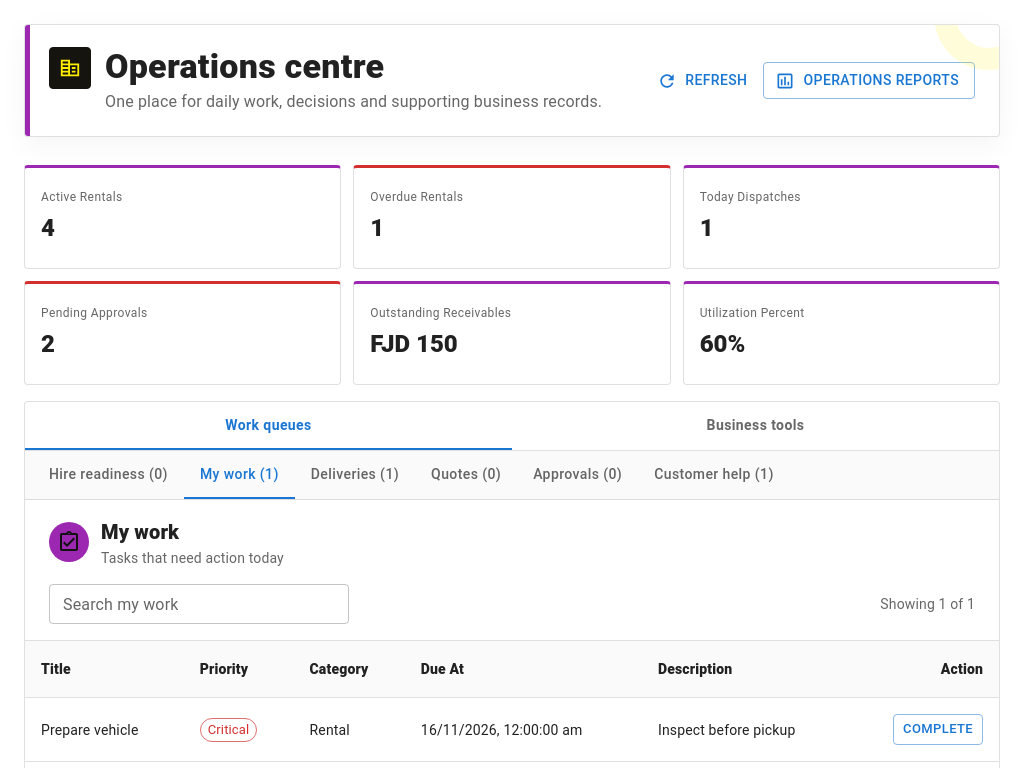
Test: requires a resolution note for a resolved case
Later steps or results of the test are not shown.
Check: the text "Prepare vehicle" is shown, box [25, 698, 184, 761]
Click the tab "Customer help (1)".
click(714, 475)  # box [638, 451, 790, 499]
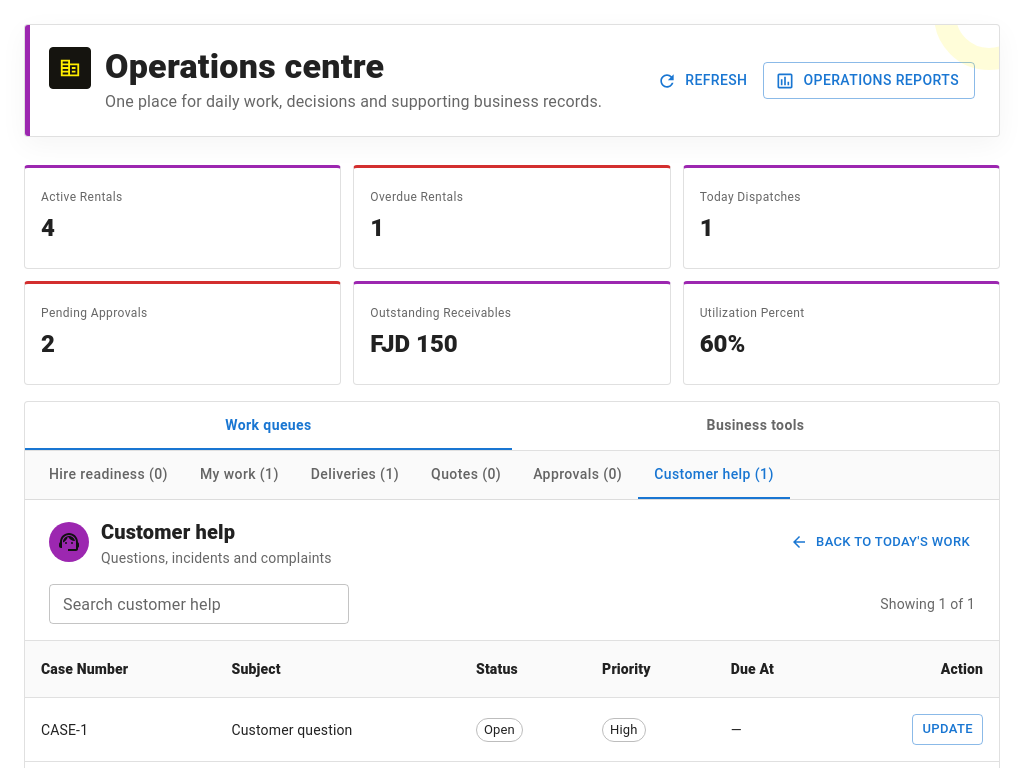
Click the button "Update".
click(948, 730)  # box [912, 714, 983, 745]
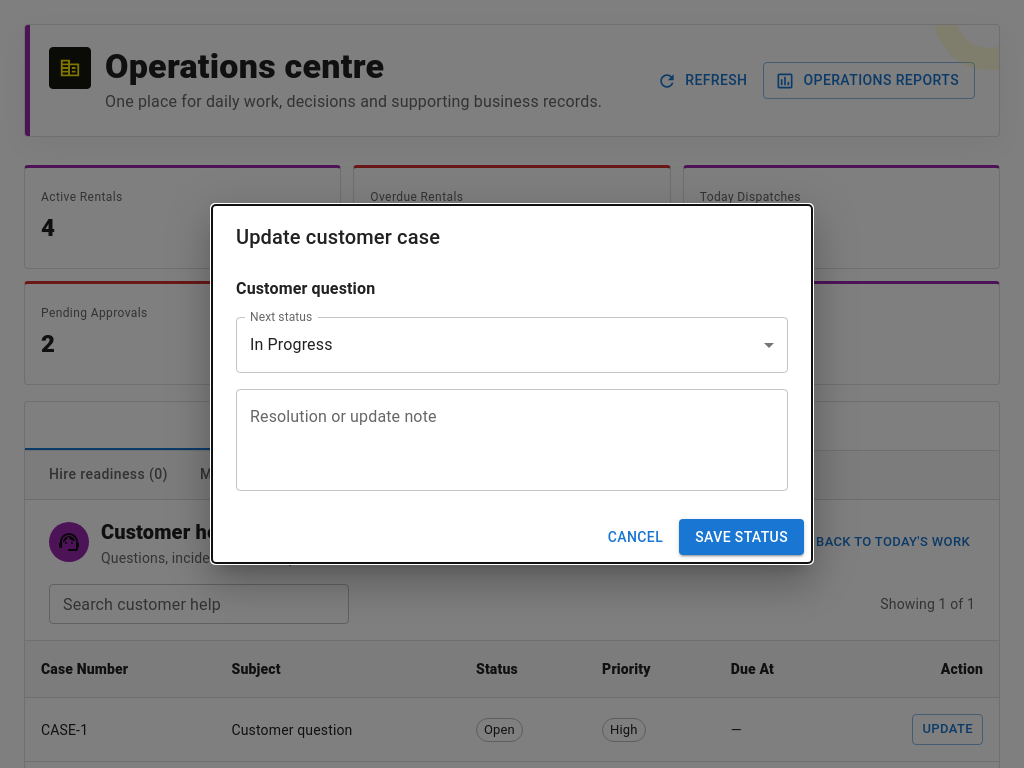
Press the mouse on the dropdown named "Next status" at (291, 345), box [250, 335, 333, 354]
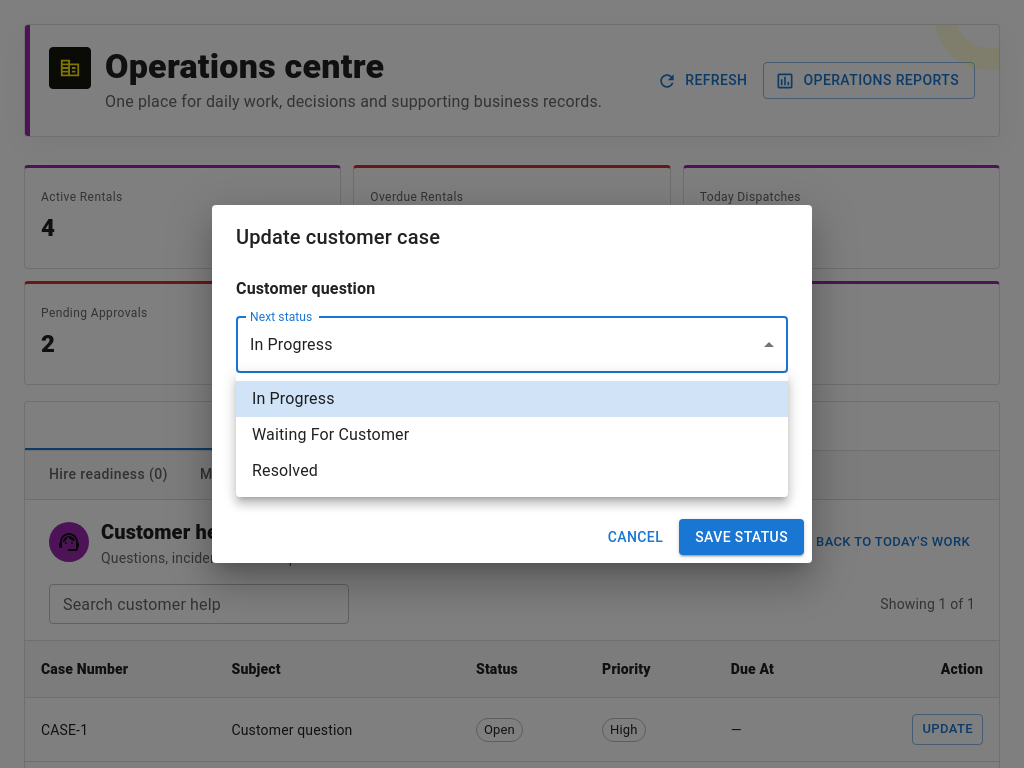
Click the option "Resolved".
click(285, 470)  # box [252, 461, 318, 480]
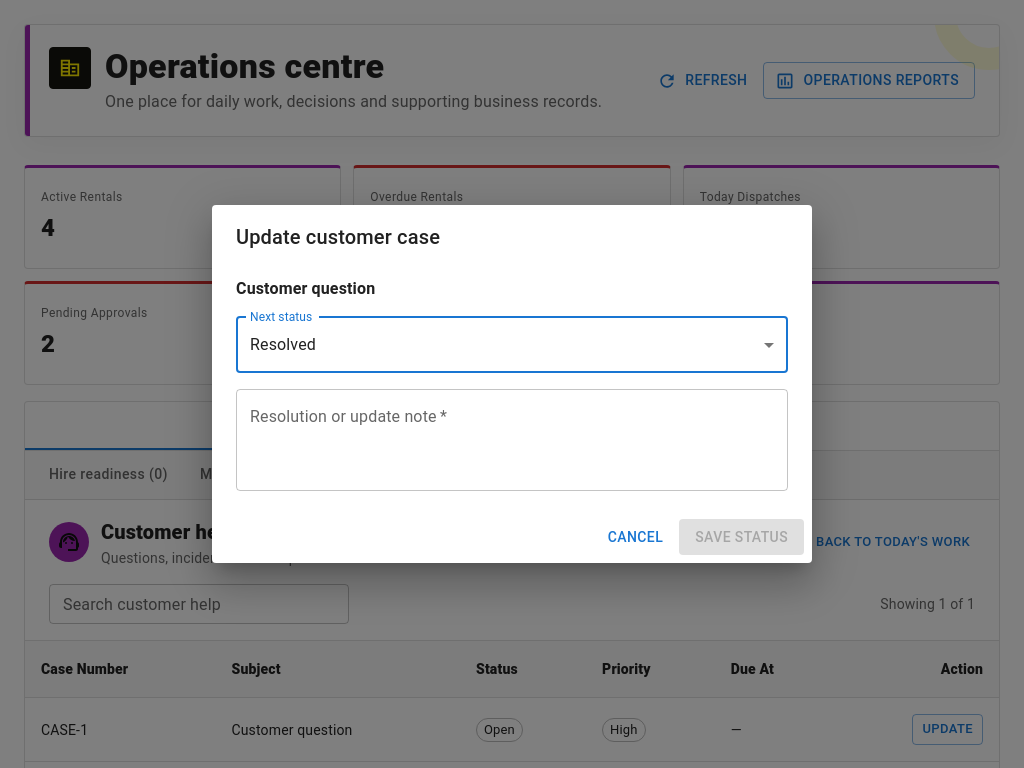
Check: the button "Save status" is disabled, box [679, 519, 804, 555]
